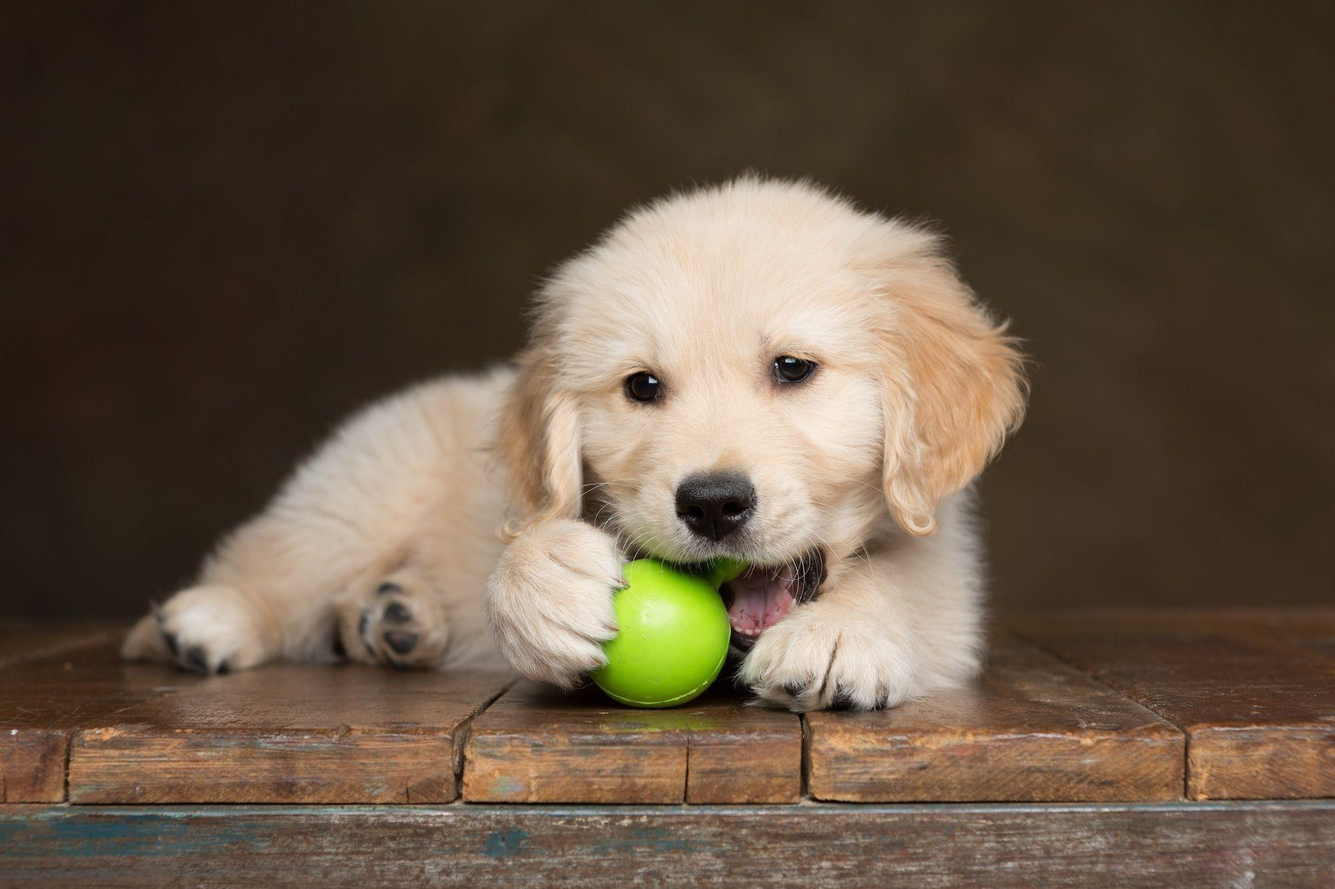puppy-dog: (110, 162, 1050, 722)
